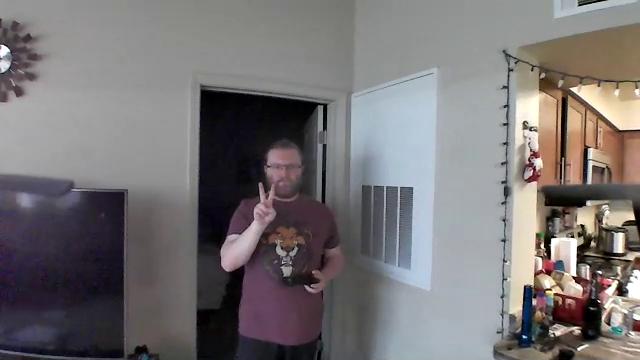peace: (251, 179, 282, 226)
